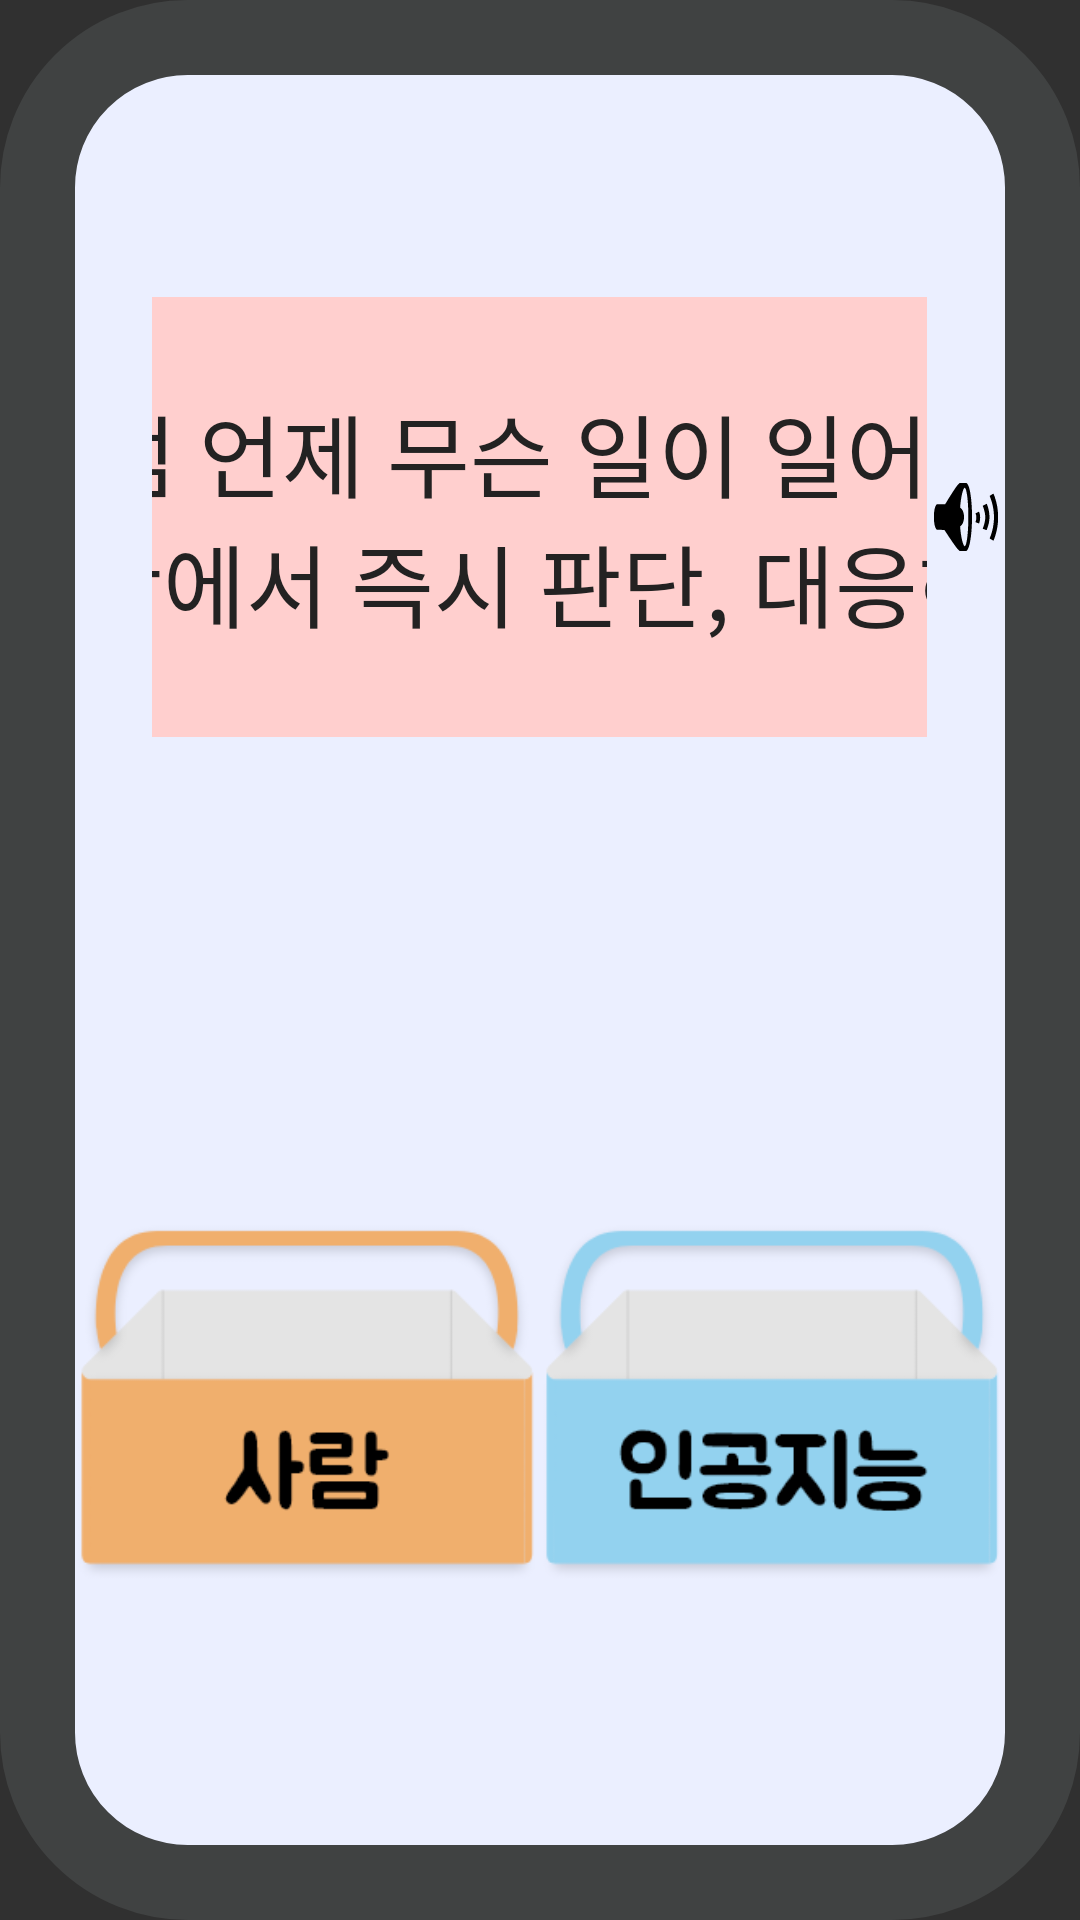

Named icons in this screenshot (1080×1920) and their bounding boxes, bbox=[x1, y1, x2, y2]:
lock silent mode off: bbox=[934, 483, 998, 551]
